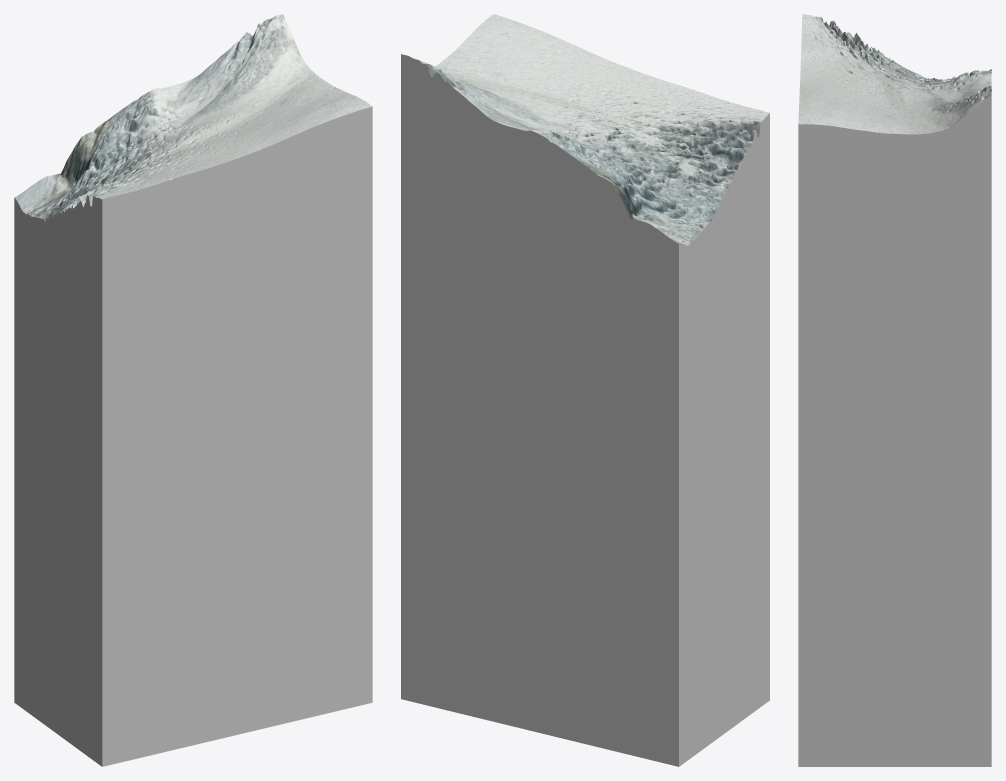
File: GrindScene2.gltf
The picture shows the model from 3 angles, left to right: view 1: azimuth 30°, elevation 25°; view 2: azimuth 150°, elevation 25°; view 3: azimuth 270°, elevation 25°; orthographic projection. The views are drawn at different scales.
Visible parts, largest first — view 1: Plane; view 2: Plane; view 3: Plane.
Boxes of the visible parts, x1=… form: Plane: x1=14, y1=14, x2=372, y2=766; Plane: x1=401, y1=14, x2=769, y2=766; Plane: x1=798, y1=14, x2=991, y2=766.
Size of the model in its own units: 0.6 by 1.33 by 0.3466.
2 materials, 1 textured.
